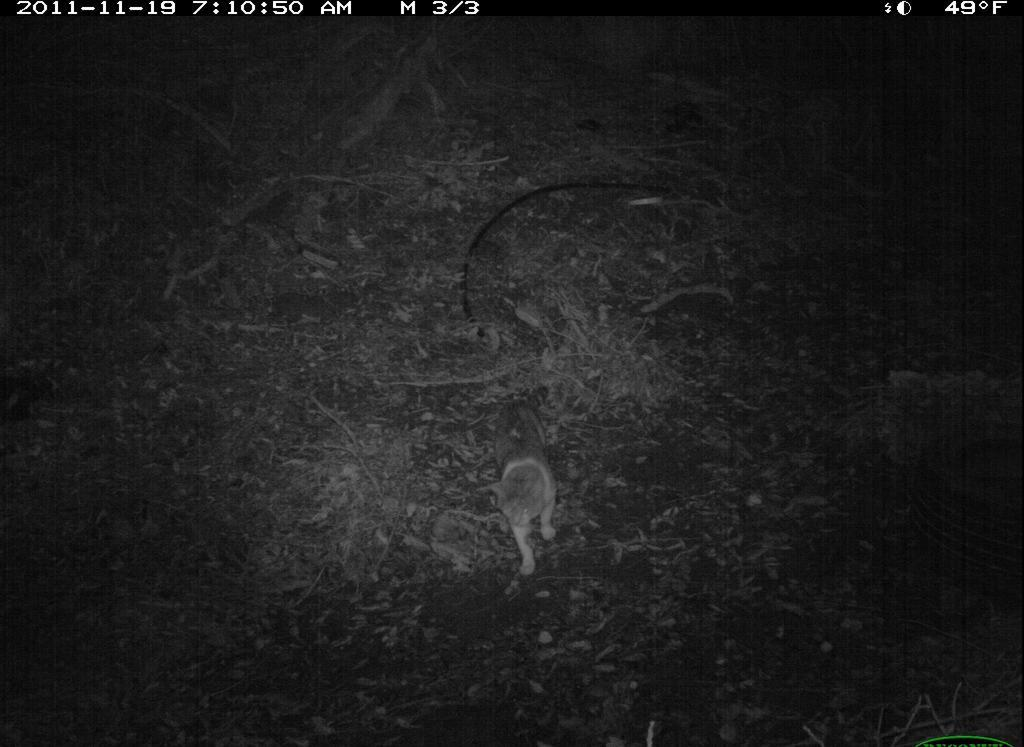cat: (463, 373, 593, 592)
